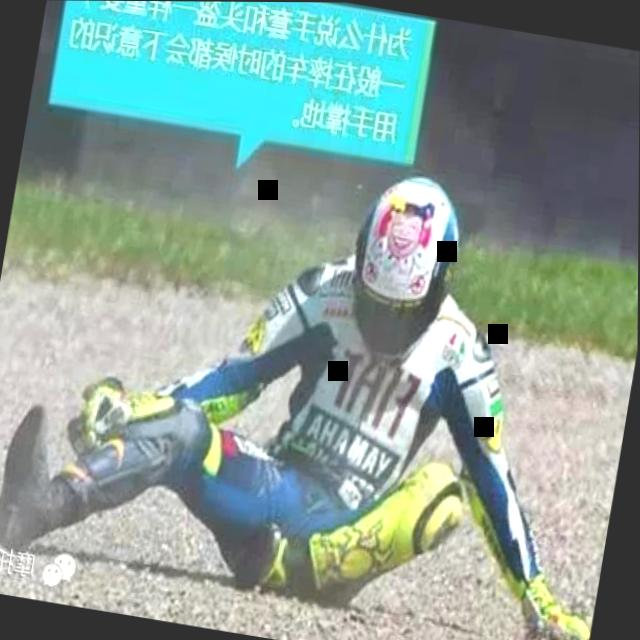Fall-Detected: (0, 104, 639, 640)
